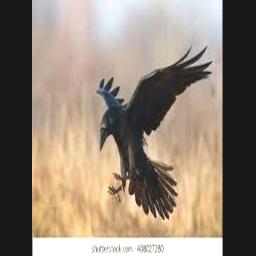Crow: (97, 43, 212, 220)
